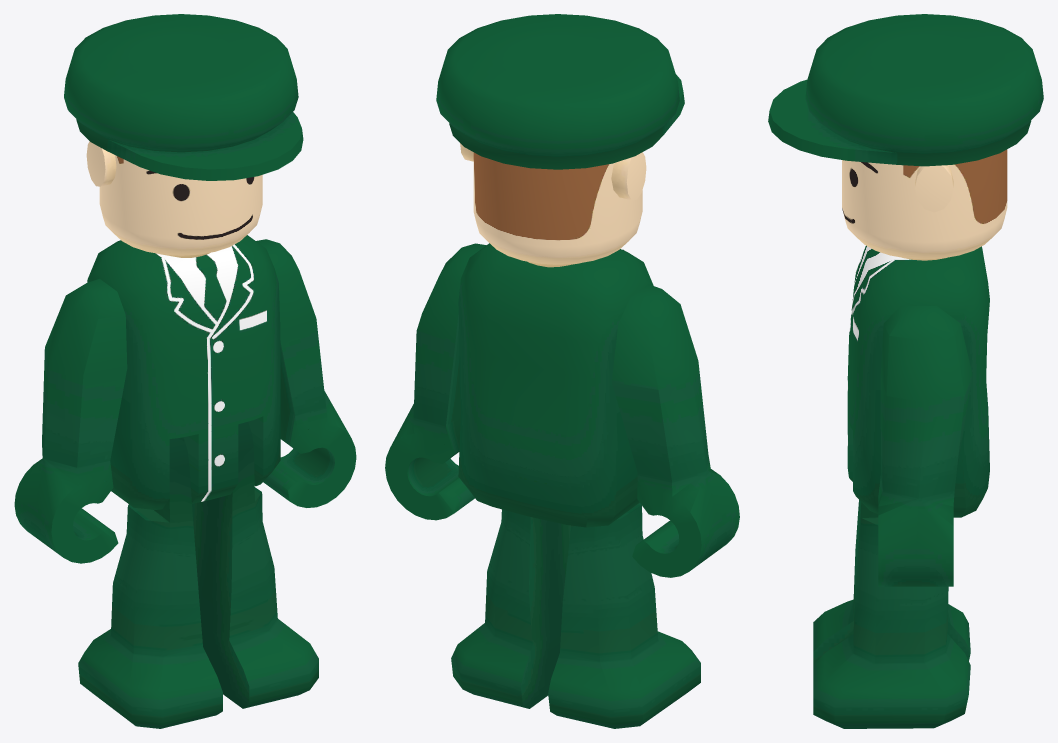
File: plakids_e2.glb
The picture shows the model from 3 angles, left to right: view 1: azimuth 30°, elevation 25°; view 2: azimuth 150°, elevation 25°; view 3: azimuth 270°, elevation 25°; orthographic projection. The views are drawn at different scales.
Parts seen in each view (by area): view 1: plakids_head, plakids_dou, plakids_R_leg, plakids_R_arm, plakids_L_leg, plakids_L_arm; view 2: plakids_head, plakids_dou, plakids_R_arm, plakids_R_leg, plakids_L_leg, plakids_L_arm; view 3: plakids_head, plakids_L_arm, plakids_L_leg, plakids_dou, plakids_R_leg.
Boxes of the visible parts, box(x1,y1,x2,y2) form: plakids_head: box(64, 14, 303, 257); plakids_dou: box(87, 235, 280, 509); plakids_R_leg: box(78, 437, 222, 728); plakids_R_arm: box(14, 279, 127, 563); plakids_L_leg: box(192, 422, 318, 708); plakids_L_arm: box(256, 239, 356, 507); plakids_head: box(436, 14, 684, 267); plakids_dou: box(458, 243, 653, 527); plakids_R_arm: box(611, 284, 739, 577); plakids_R_leg: box(548, 502, 700, 728); plakids_L_leg: box(451, 509, 570, 708); plakids_L_arm: box(385, 243, 486, 520); plakids_head: box(768, 14, 1043, 260); plakids_L_arm: box(878, 306, 972, 586); plakids_L_leg: box(813, 502, 970, 728); plakids_dou: box(847, 245, 989, 517); plakids_R_leg: box(813, 500, 970, 664).
Bounding box in the file's own units: 1.86 × 3.61 × 1.43.
Materials: 2 (2 with a texture image).
